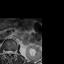CCS_normal: (8, 48, 10, 58)
LFS_normal: (12, 48, 15, 56)
LLS_normal: (10, 48, 13, 56)
RFS_normal: (4, 48, 6, 56)
RLS_normal: (6, 48, 8, 56)
